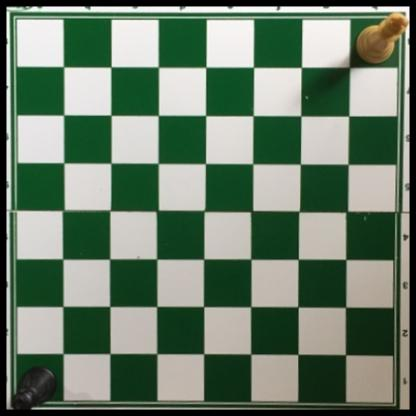black-king: (9, 364, 60, 410)
white-king: (355, 11, 410, 66)
